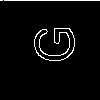G: (24, 25, 75, 64)
